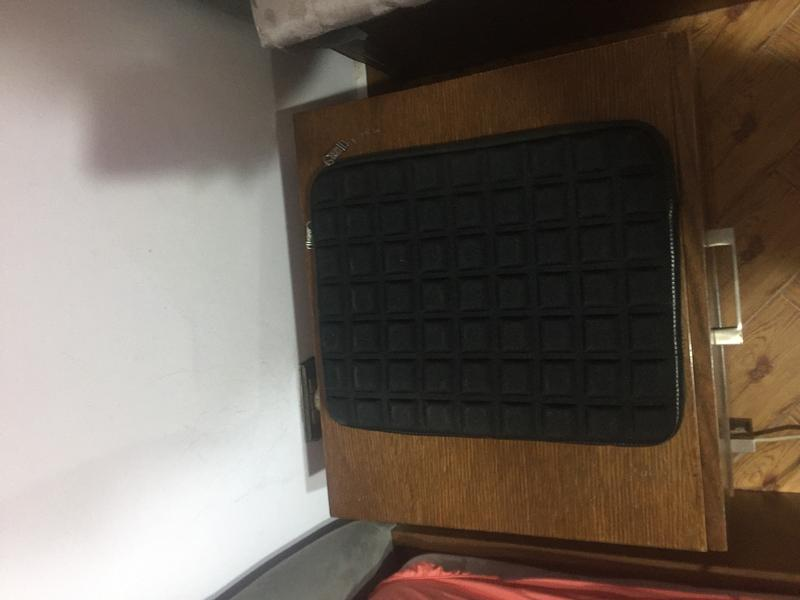cover: (299, 127, 692, 450)
